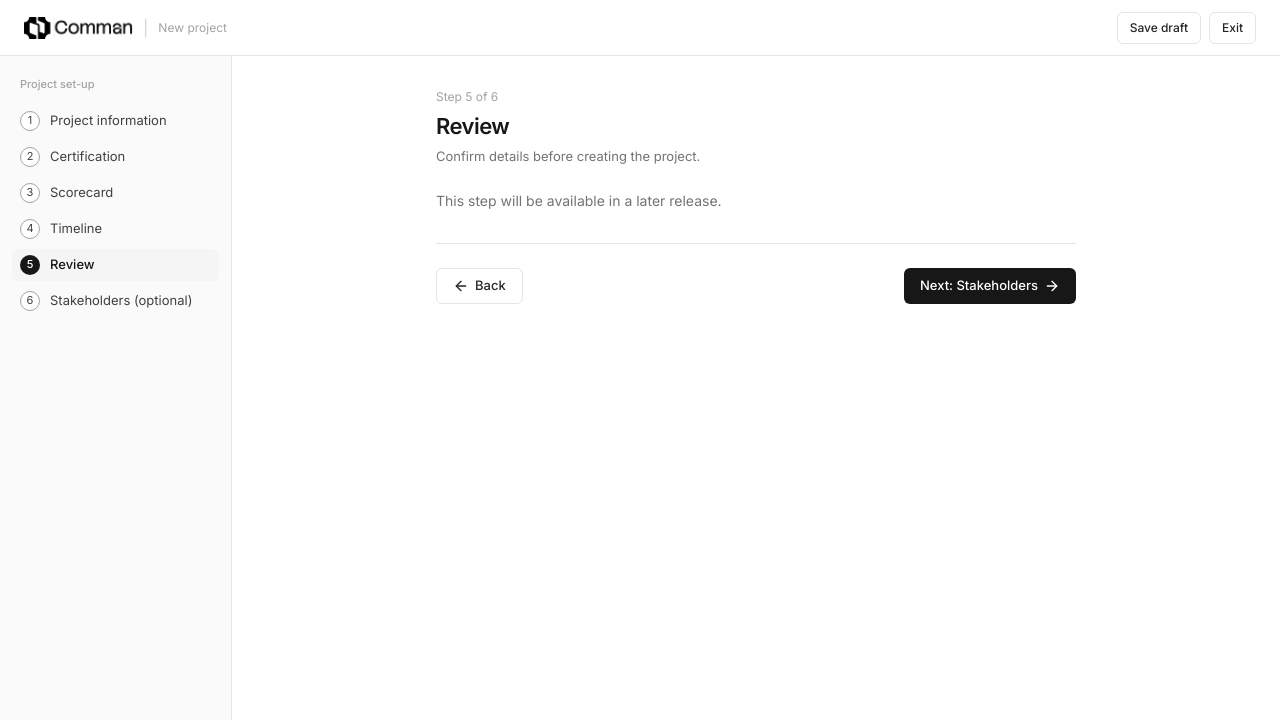
Scenario: NewProjectPage › renders the optional stakeholders step from the review placeholder
The image size is (1280, 720).
Click the button "Next: Stakeholders": [990, 286] box [904,268,1076,304]
(page scrolled)
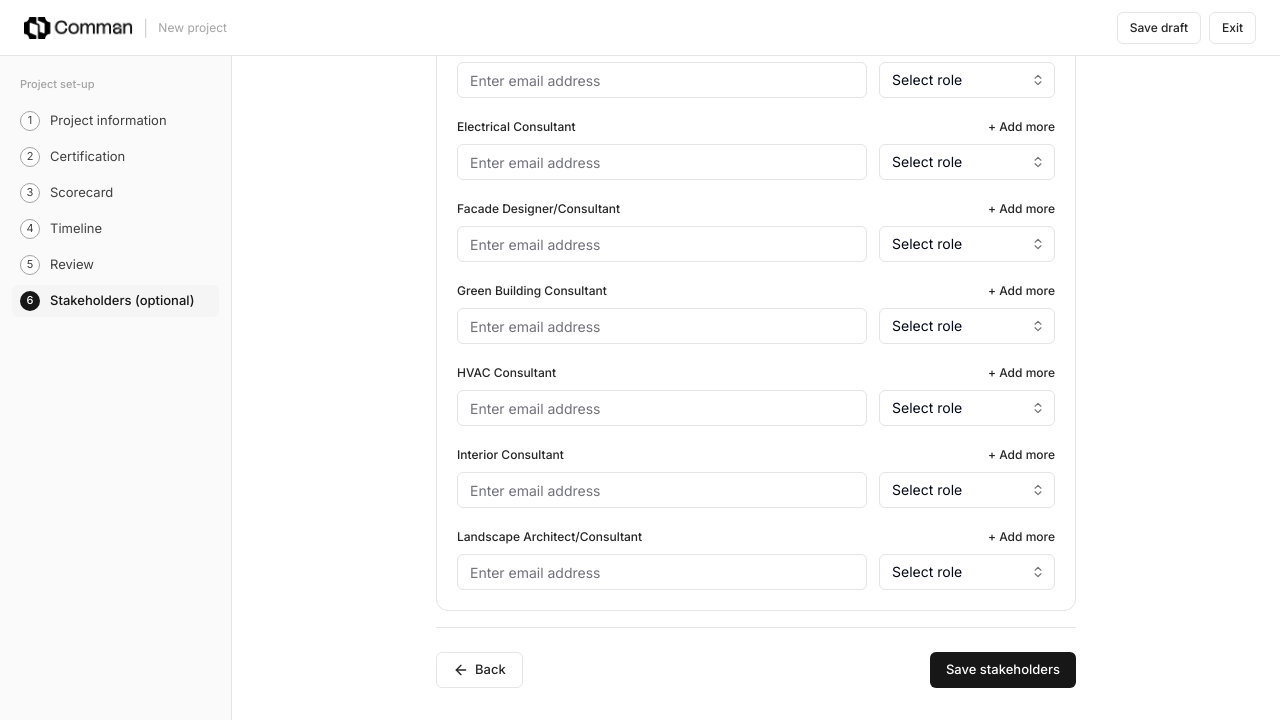
expect the element with test id "stakeholders-form" is shown: met, box [436,56,1076,688]
expect the heading "Electrical Consultant" is shown: met, box [457,119,576,135]
expect the heading "Facade Designer/Consultant" is shown: met, box [457,201,620,217]
